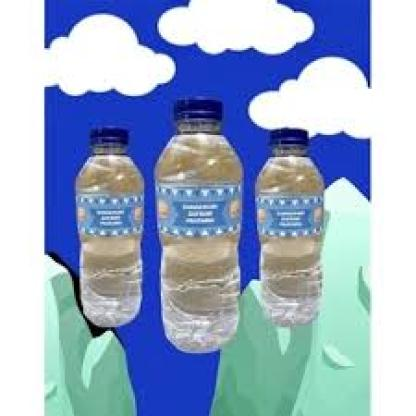Glass Bottle: (157, 92, 249, 357), (74, 122, 148, 330), (254, 124, 327, 332)
